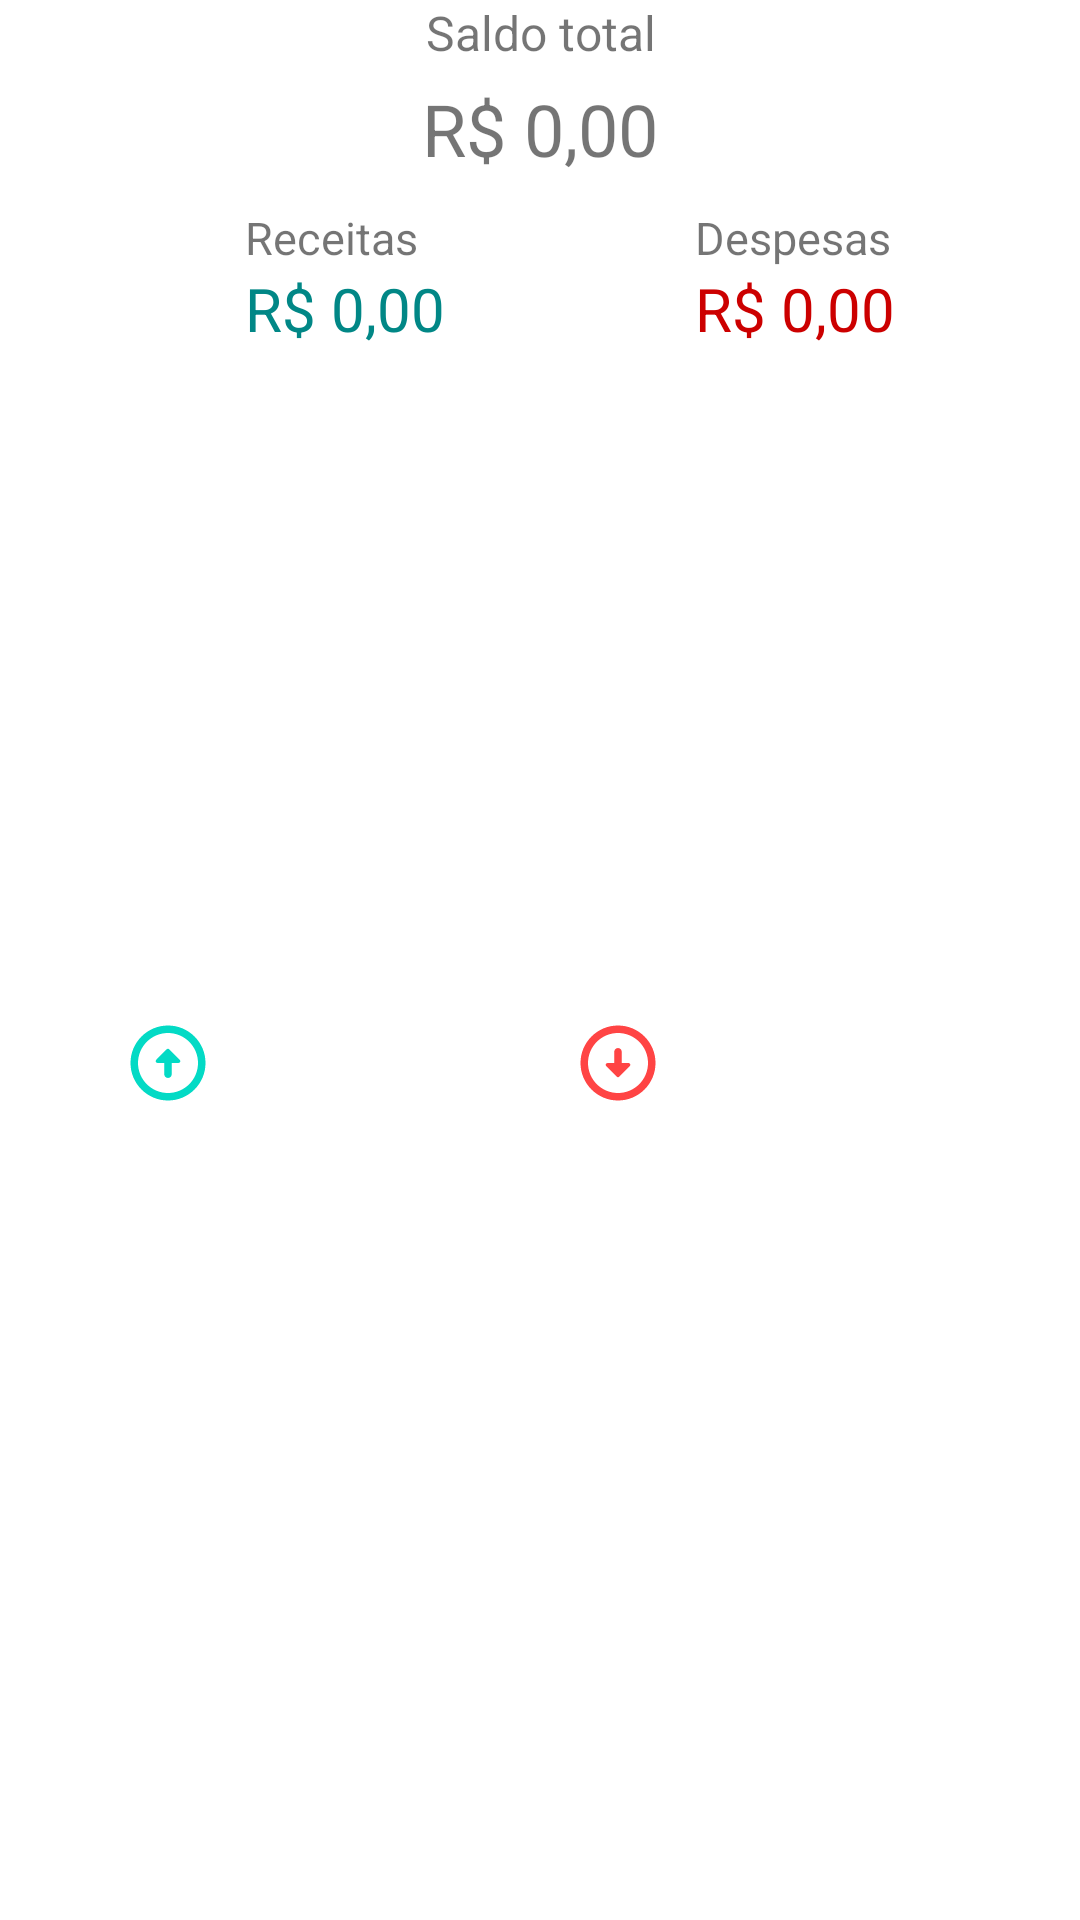

Screen size 1080 x 1920. Icon name, then its box in pixels as [left=x1, top=y1, right=x2, bottom=y2]:
arrow circle down: [left=580, top=1025, right=656, bottom=1101]
arrow circle up: [left=130, top=1025, right=206, bottom=1101]
